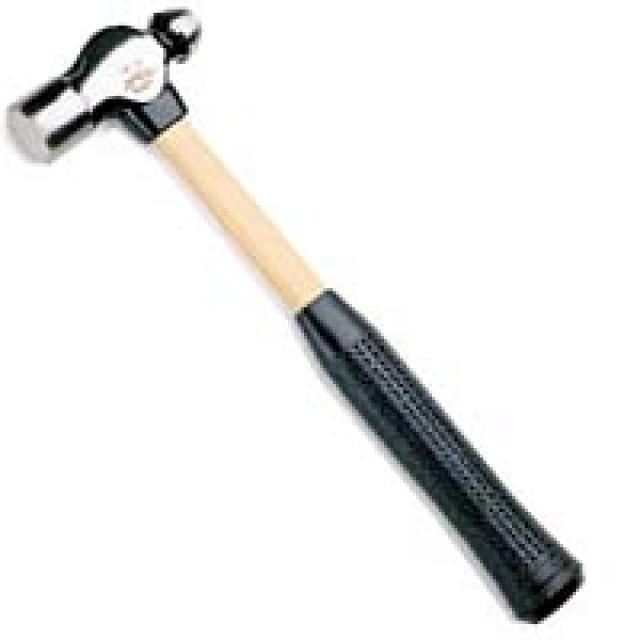hammer: (4, 2, 588, 629)
